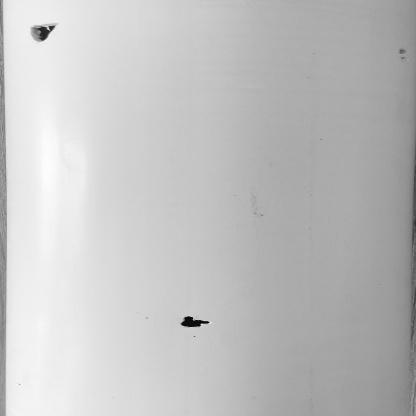kongdong: (170, 312, 225, 335), (26, 17, 64, 45)
